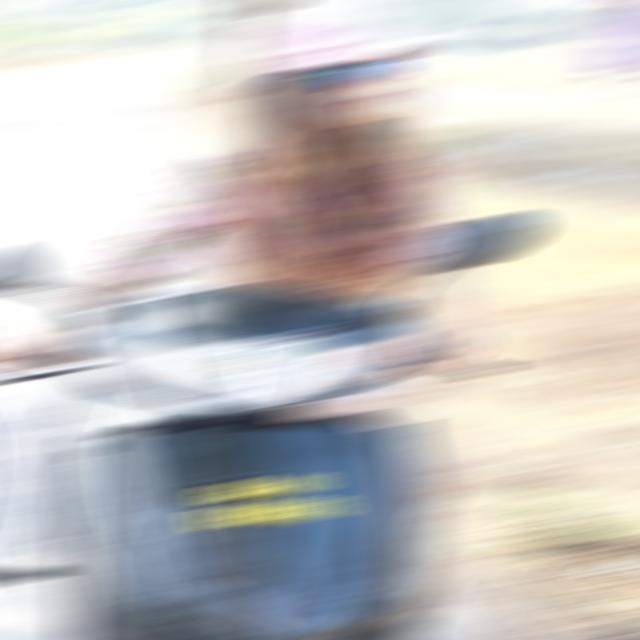Without Helmet: (216, 2, 436, 138)
